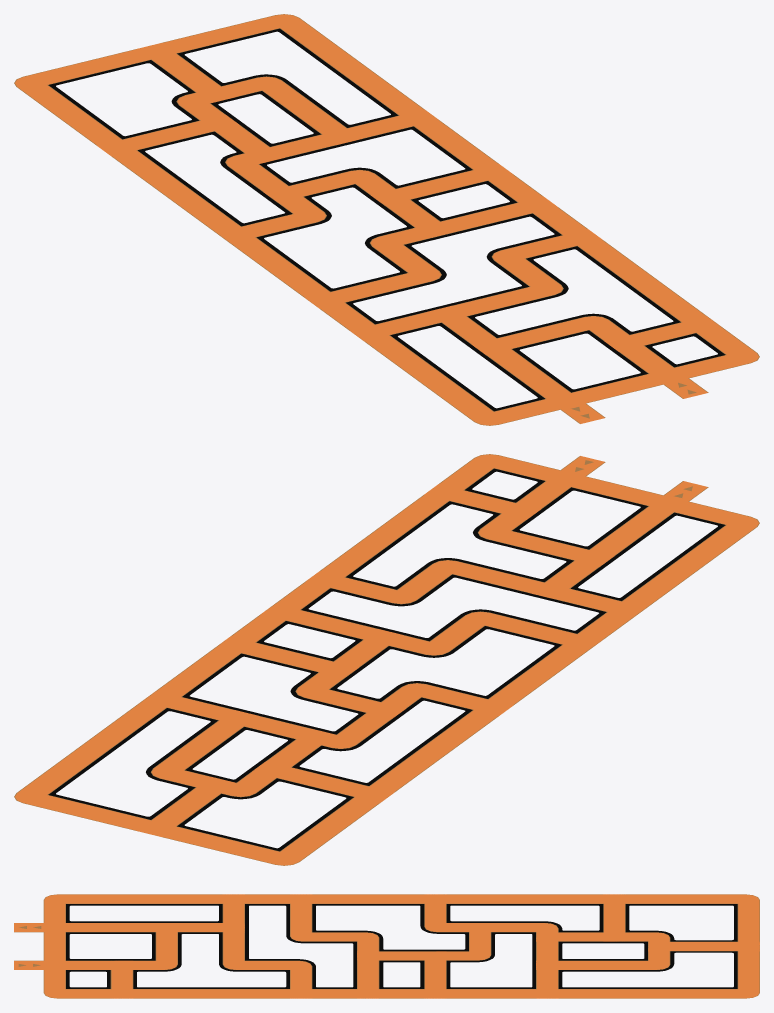
Rendered from Dashboard_Map-2.fbx.
The picture shows the model from 3 angles, top to bottom: view 1: azimuth 30°, elevation 25°; view 2: azimuth 150°, elevation 25°; view 3: azimuth 270°, elevation 25°; orthographic projection. The views are drawn at different scales.
Parts seen in each view (by area): view 1: Map-Road-Rine.013; view 2: Map-Road-Rine.013; view 3: Map-Road-Rine.013.
Boxes of the visible parts, bbox=[...] form: Map-Road-Rine.013: bbox=[14, 14, 759, 425]; Map-Road-Rine.013: bbox=[14, 454, 759, 865]; Map-Road-Rine.013: bbox=[14, 894, 759, 998].
Size of the model in its own units: 13.2 by 0.00384 by 39.99.
